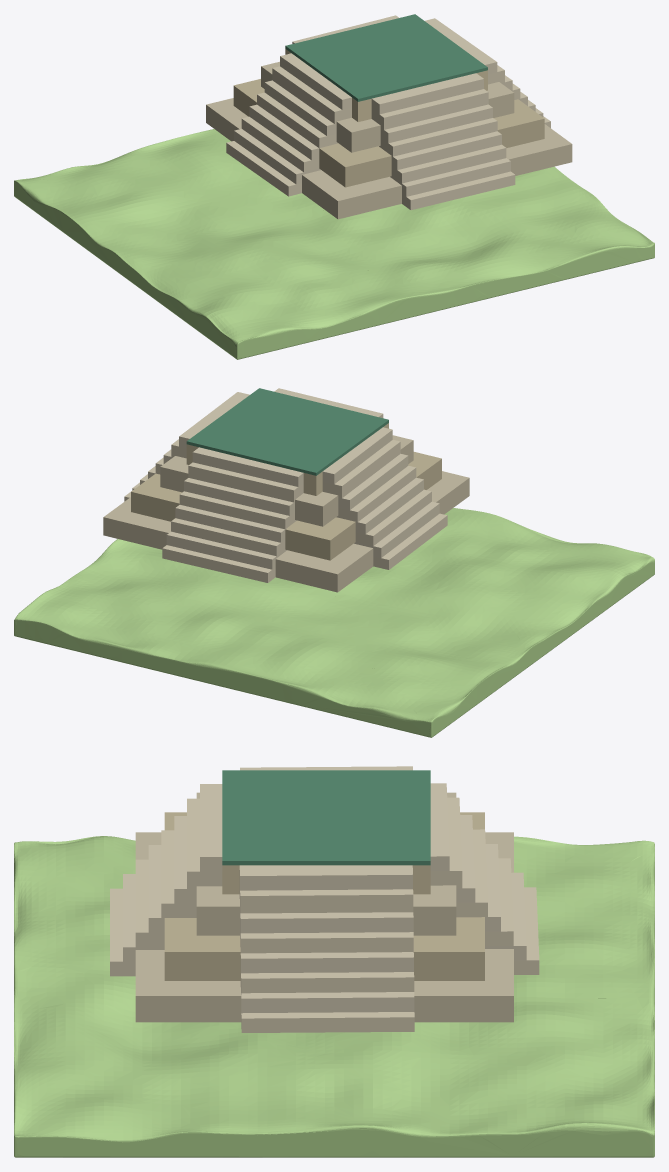
3 views of the same model, one above another, from view 1: azimuth 30°, elevation 25°; view 2: azimuth 150°, elevation 25°; view 3: azimuth 270°, elevation 25° (orthographic). The views are drawn at different scales.
Visible parts, largest first — view 1: Mesh_Mesh_head_geo.001_lambert2SG.001; view 2: Mesh_Mesh_head_geo.001_lambert2SG.001; view 3: Mesh_Mesh_head_geo.001_lambert2SG.001.
Part boxes in pixels (x1,y1,x2,y2): Mesh_Mesh_head_geo.001_lambert2SG.001: (14, 14, 654, 359); Mesh_Mesh_head_geo.001_lambert2SG.001: (14, 388, 654, 737); Mesh_Mesh_head_geo.001_lambert2SG.001: (14, 766, 654, 1157).
Size of the model in its own units: 0.216 by 0.0795 by 0.2.
